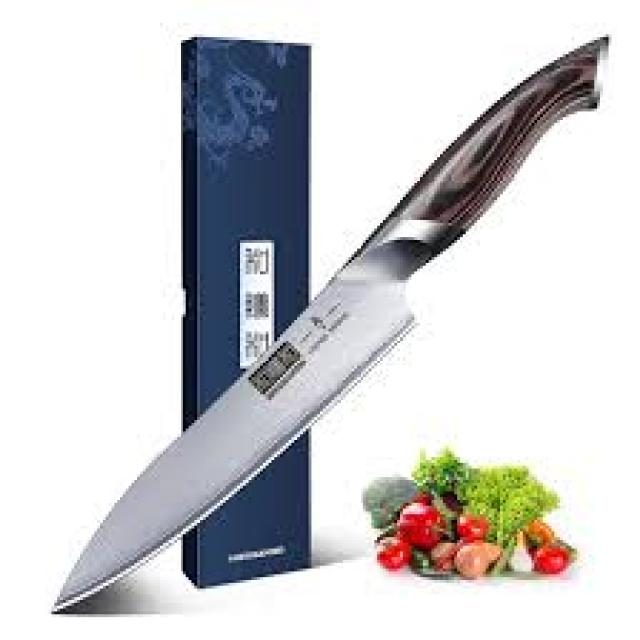Knife: (51, 37, 609, 611)
